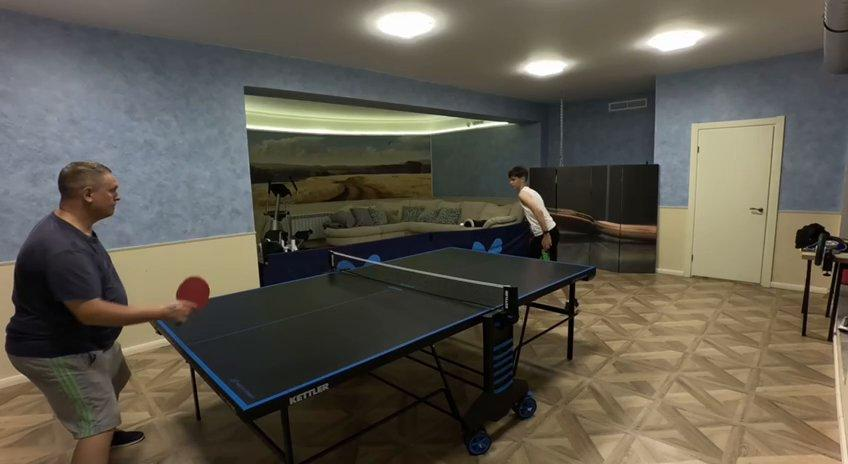Ball: (458, 221, 466, 228)
Net: (327, 251, 515, 308)
Player1: (508, 166, 557, 260)
Player2: (5, 161, 159, 463)
Table: (149, 247, 594, 409)
